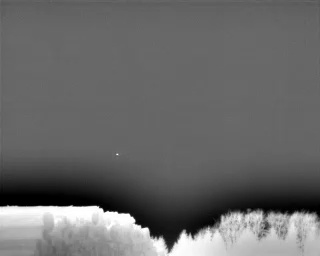BIRD: (114, 151, 121, 159)
